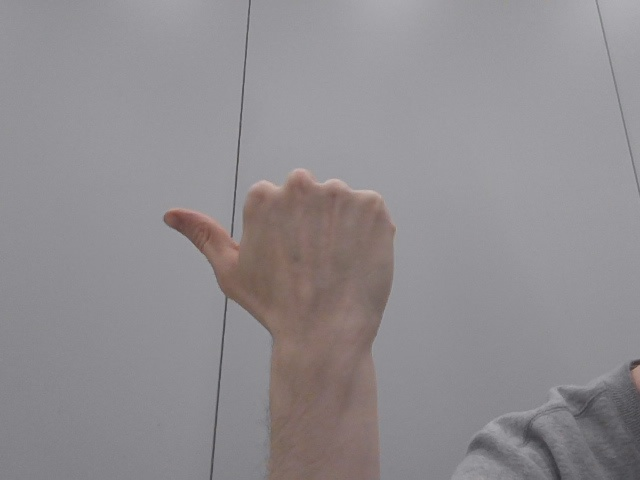right: (141, 156, 419, 383)
